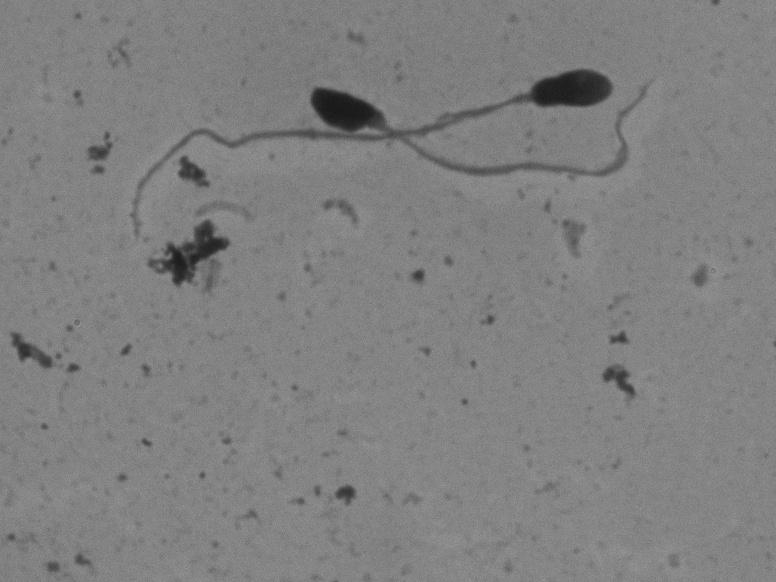Abnormal: (77, 53, 619, 262), (297, 57, 676, 189)
